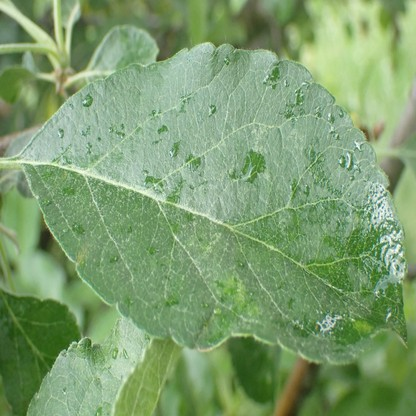scab: (216, 275, 259, 316), (355, 320, 373, 334), (78, 245, 87, 265)
